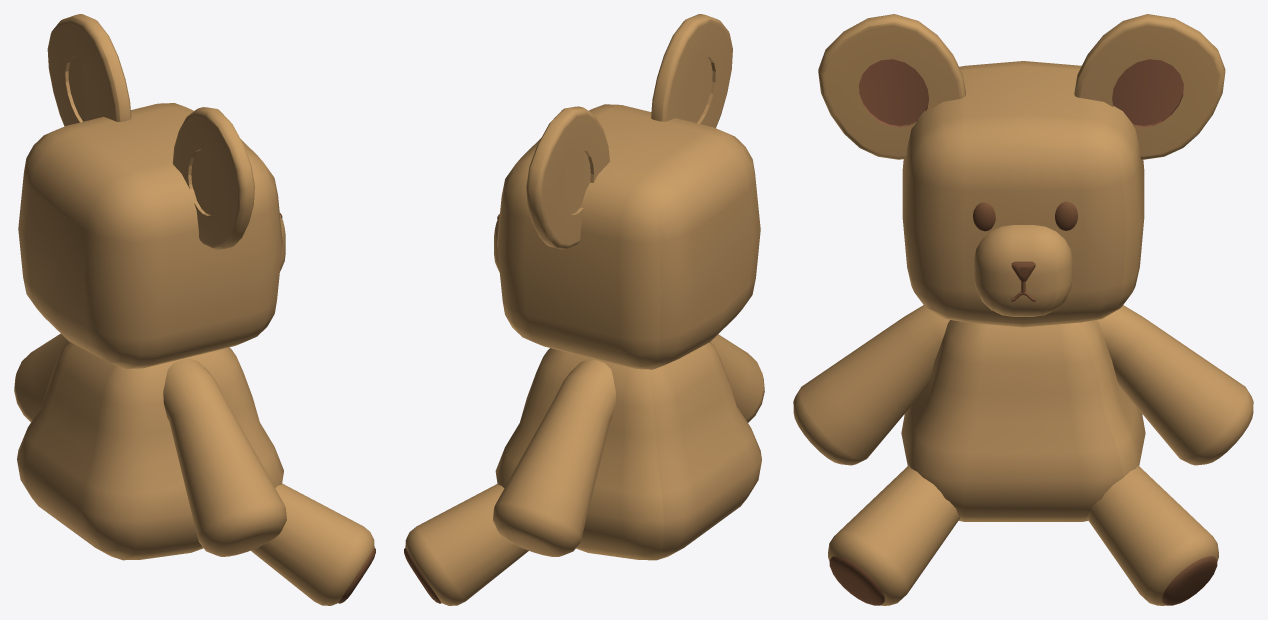
Rendered from Teddy_bear_Pickup.fbx.
3 renders of one model, left to right at view 1: azimuth 30°, elevation 25°; view 2: azimuth 150°, elevation 25°; view 3: azimuth 270°, elevation 25°, orthographic. The views are drawn at different scales.
Visible parts, largest first — view 1: pCylinder19; view 2: pCylinder19; view 3: pCylinder19.
Part boxes in pixels (bbox=[...]): pCylinder19: bbox=[14, 14, 375, 605]; pCylinder19: bbox=[404, 14, 764, 605]; pCylinder19: bbox=[793, 14, 1253, 605].
Bounding box in the file's own units: 1.7 × 3.35 × 2.63.
